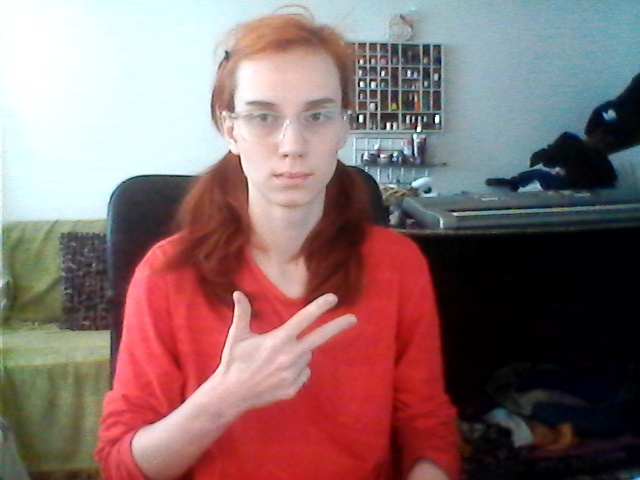tri: (216, 284, 361, 410)
